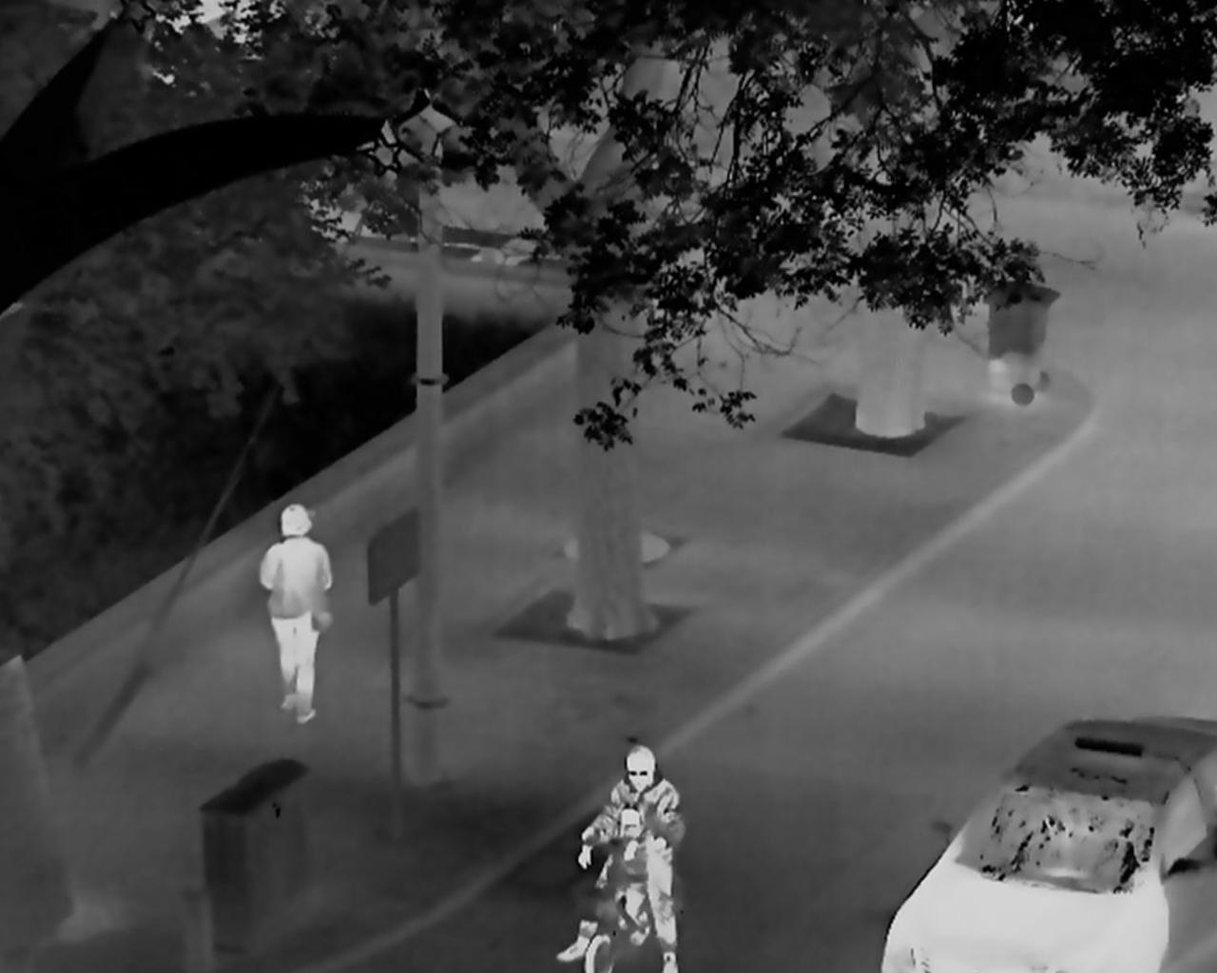person: (555, 740, 688, 973), (258, 502, 336, 727), (577, 805, 651, 945)
